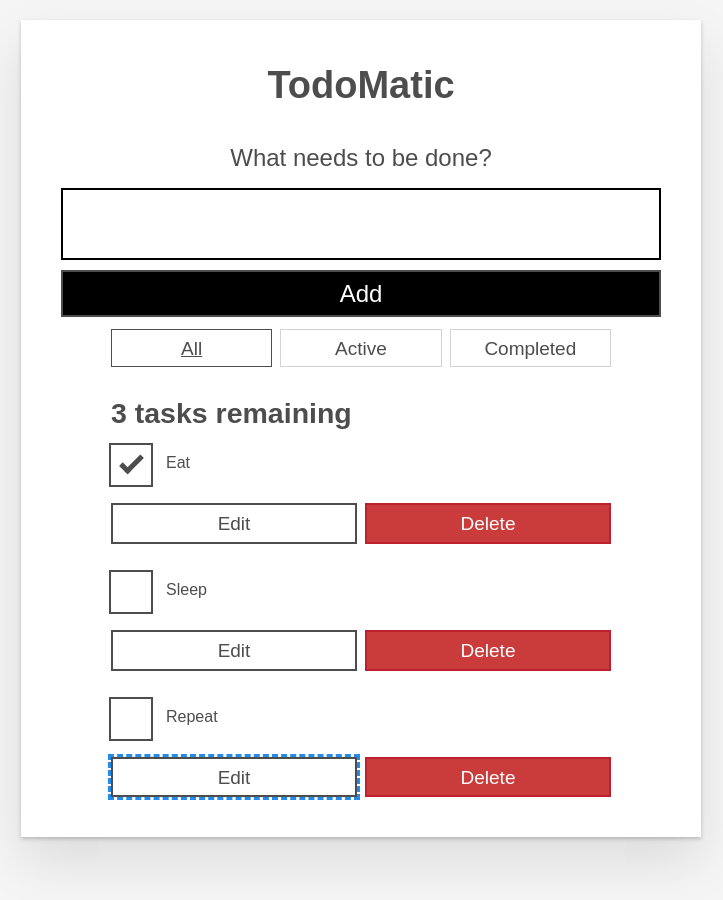
it: Functionality of App › Should add new todo when add button pressed
Expected: the number of checkboxes is 3, [151,445,205,478]; [151,572,222,605]; [151,699,233,732]
Type "new task" into the field labelled "What needs to be done?" at (361, 224), box [61,188,661,260]
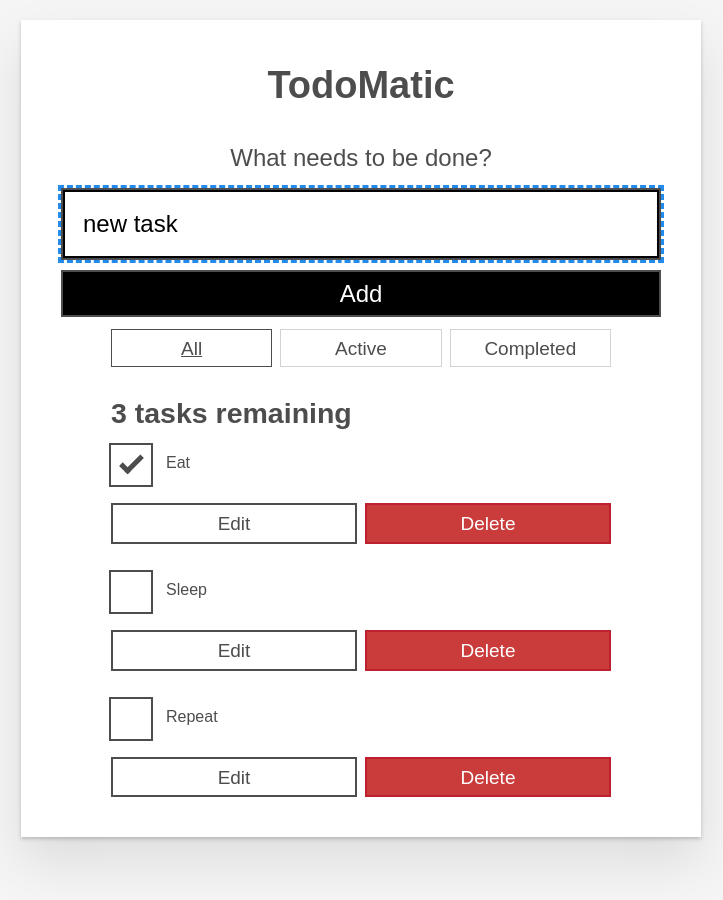
Click the button "Add" at (361, 293), box [61,270,661,317]
(page scrolled)
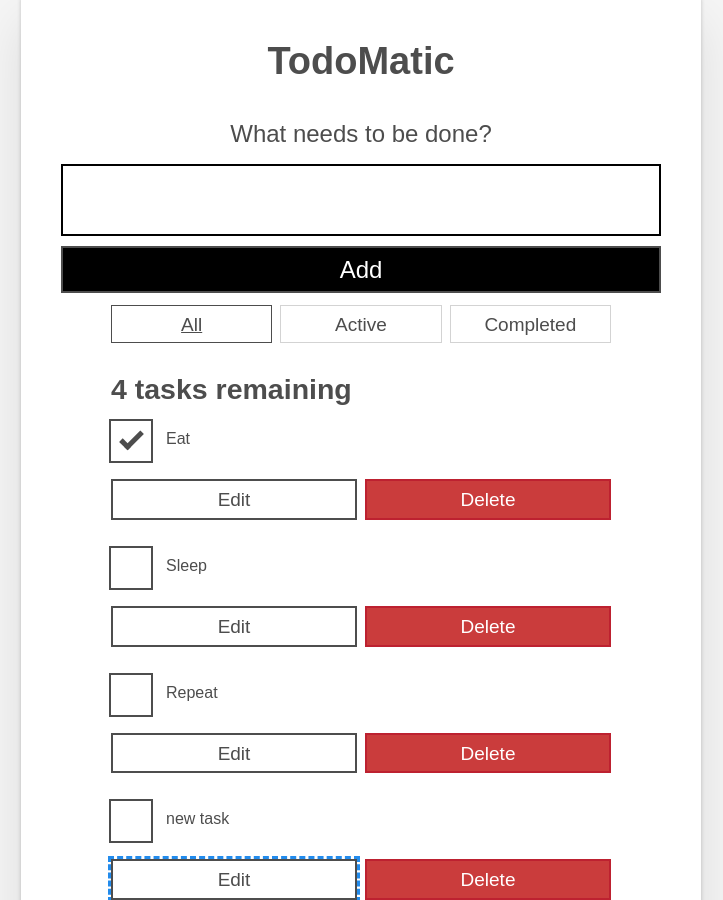
Expected: the number of checkboxes is 4, [151,421,205,454]; [151,548,222,581]; [151,675,233,708]; [151,801,244,834]
